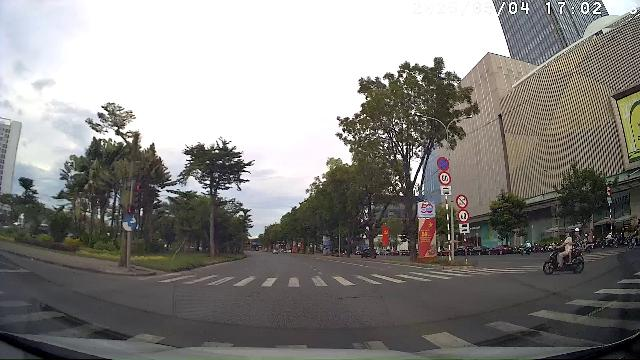127-toc-do-toi-da-60: (457, 209, 470, 223)
127-toc-do-toi-da-80: (438, 171, 452, 185)
130-cam-dung-va-do-xe: (437, 157, 450, 171)
